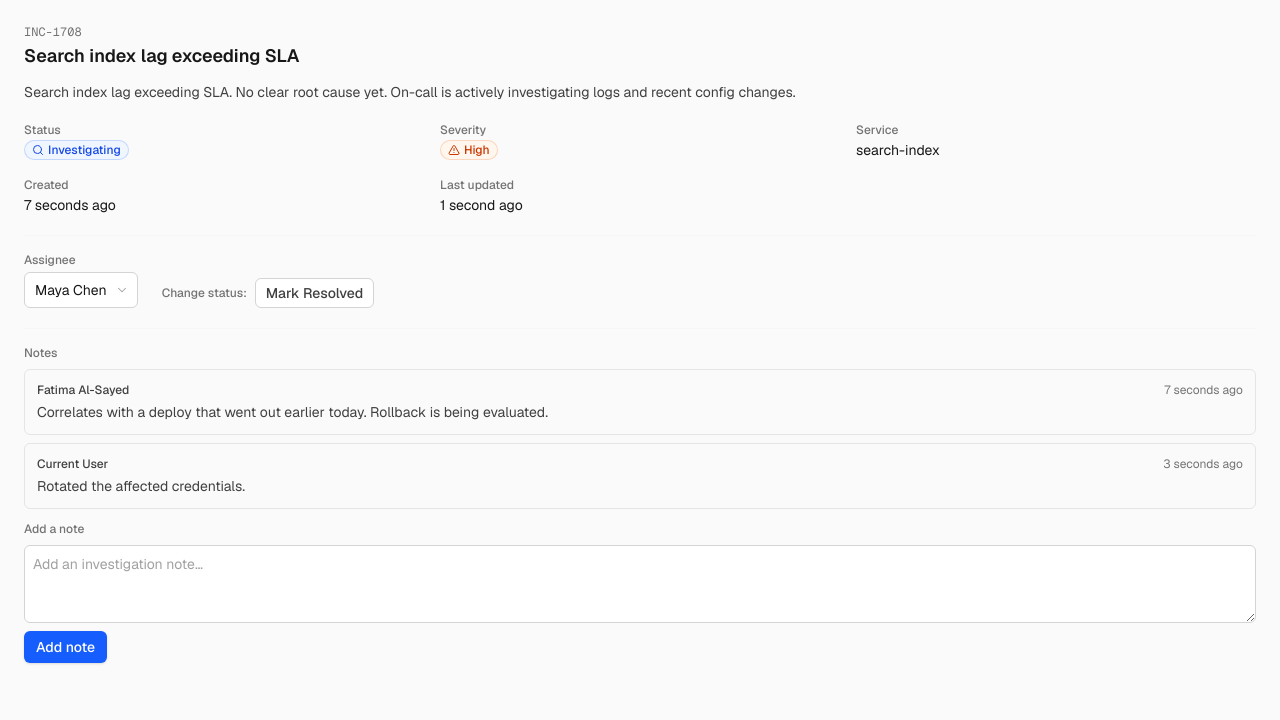
it: IncidentDetailContent › can remove the assignee entirely
Expected: the heading "Search index lag exceeding SLA" is shown, [24,44,300,67]
Click the dropdown named "Assignee".
click(81, 290)  # box [24,272,138,308]
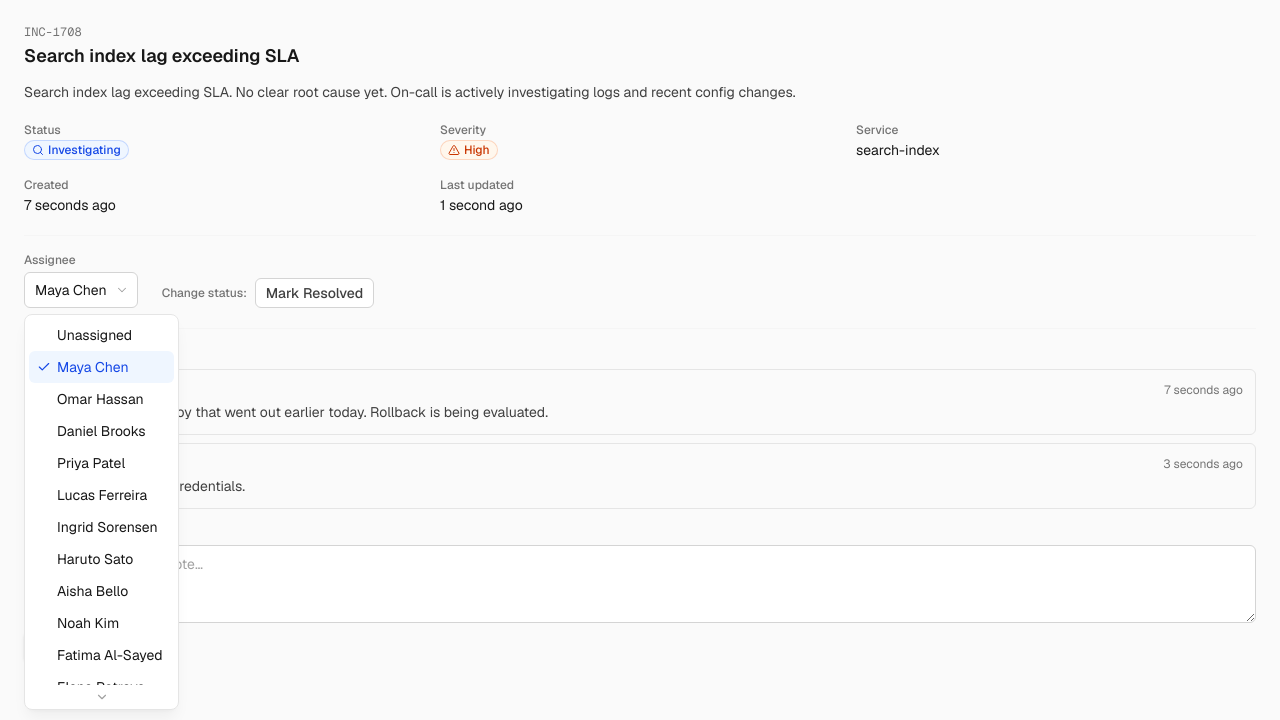
Click the option "Unassigned".
click(95, 335)  # box [57,326,132,344]
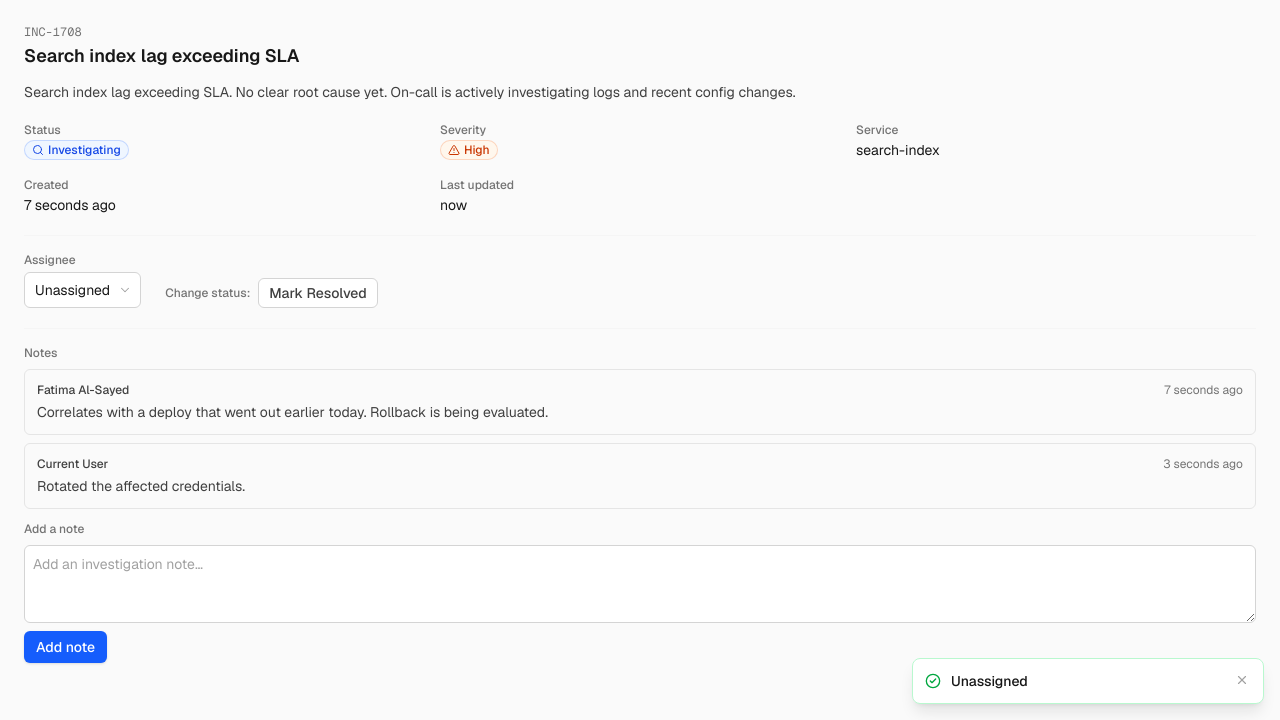
Now the dropdown named "Assignee" reads "Unassigned", box [24,272,141,308]
